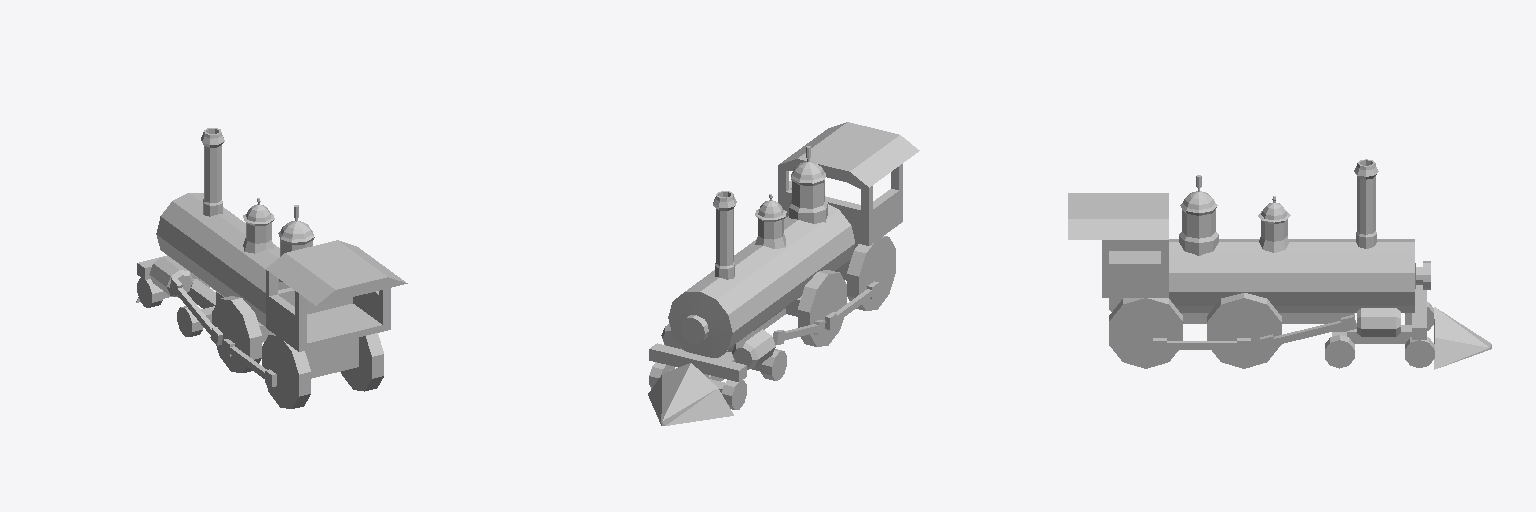
The model's file is Train Head.obj.
3 renders of one model, left to right at view 1: azimuth 30°, elevation 25°; view 2: azimuth 150°, elevation 25°; view 3: azimuth 270°, elevation 25°, orthographic.
Visible parts, largest first — view 1: pCube1, pCylinder1, pCube7, pCylinder46, pCylinder7, pCylinder2, pCylinder47, pCylinder3, pCylinder16, pCylinder4, pCube29, pCube30 (+2 smaller); view 2: pCylinder1, pCube1, pCube2, pCylinder46, pCube7, pCylinder7, pCylinder4, pCylinder2, pCylinder3, pCylinder16, pCube30, pCylinder43 (+2 smaller); view 3: pCylinder1, pCube1, pCylinder47, pCylinder45, pCube7, pCylinder4, pCube2, pCylinder2, pCylinder3, pCylinder17, pCube31, pCube6 (+2 smaller).
Part boxes in pixels (x1,y1,x2,y2): pCube1: (266,240,407,351); pCylinder1: (156,193,290,333); pCube7: (137,256,358,378); pCylinder46: (262,334,310,408); pCylinder7: (212,296,261,372); pCylinder2: (201,128,224,216); pCylinder47: (341,333,383,391); pCylinder3: (243,198,274,253); pCylinder16: (149,257,193,297); pCylinder4: (278,205,314,281); pCube29: (170,277,222,345); pCube30: (223,339,276,386); pCylinder1: (668,204,854,357); pCube1: (778,122,919,245); pCube2: (648,363,733,425); pCylinder46: (847,236,895,310); pCube7: (649,243,857,392); pCylinder7: (798,270,846,346); pCylinder4: (789,146,827,223); pCylinder2: (713,191,736,279); pCylinder3: (755,194,786,248); pCylinder16: (732,329,775,369); pCube30: (825,281,878,329); pCylinder43: (761,349,786,380); pCylinder1: (1169,239,1430,312); pCube1: (1068,193,1168,297); pCylinder47: (1109,298,1182,368); pCylinder45: (1207,293,1281,368); pCube7: (1181,285,1426,343); pCylinder4: (1179,175,1218,255); pCube2: (1434,307,1491,369); pCylinder2: (1354,159,1378,248); pCylinder3: (1258,196,1290,252); pCylinder17: (1357,308,1400,336); pCube31: (1153,338,1250,352); pCube6: (1260,315,1356,350).
Size of the model in its own units: 7.24 by 13.21 by 27.33.